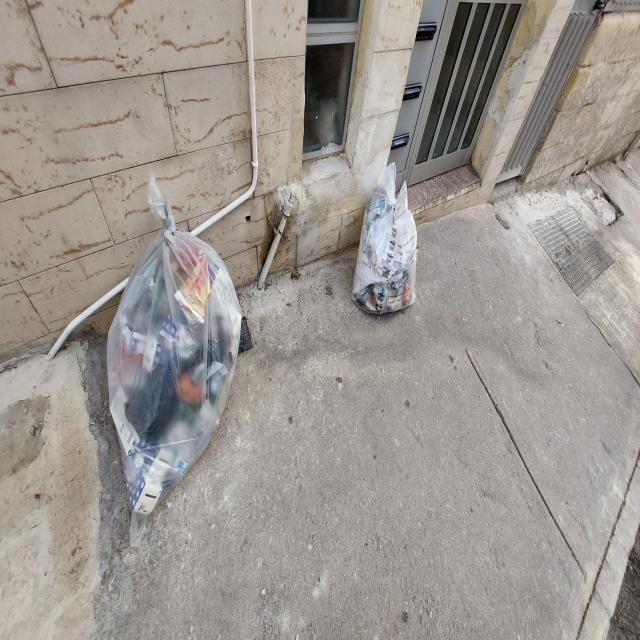Recycled Waste -Grey or Green Bag-: (103, 170, 246, 531), (350, 155, 422, 321)
